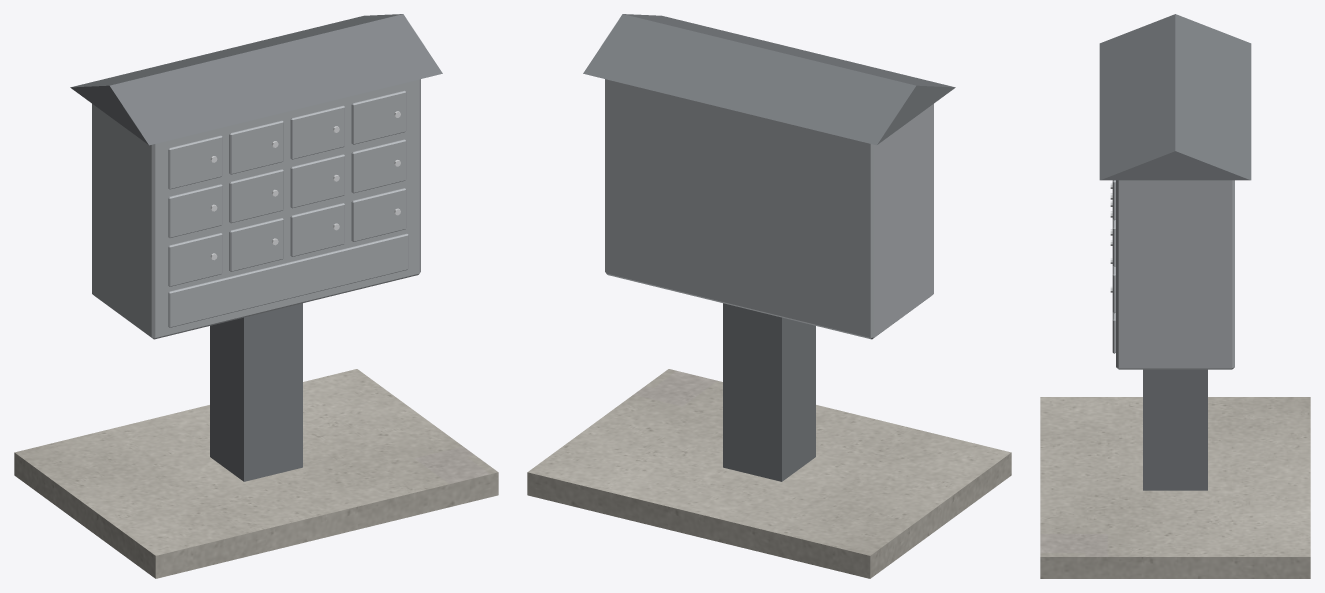
Rendered from mailboxes.glb.
3 views of the same model, side by side, from view 1: azimuth 30°, elevation 25°; view 2: azimuth 150°, elevation 25°; view 3: azimuth 270°, elevation 25° (orthographic). The views are drawn at different scales.
Parts seen in each view (by area): view 1: mailboxes_steel, mailboxes_concrete, mailboxes_steel_d; view 2: mailboxes_steel, mailboxes_concrete, mailboxes_steel_d; view 3: mailboxes_concrete, mailboxes_steel_d, mailboxes_steel.
Part boxes in pixels (x1=…): mailboxes_steel: x1=92, y1=79, x2=420, y2=339; mailboxes_concrete: x1=14, y1=369, x2=498, y2=578; mailboxes_steel_d: x1=70, y1=14, x2=442, y2=481; mailboxes_steel: x1=605, y1=79, x2=933, y2=339; mailboxes_concrete: x1=527, y1=369, x2=1011, y2=578; mailboxes_steel_d: x1=583, y1=14, x2=955, y2=481; mailboxes_concrete: x1=1040, y1=397, x2=1310, y2=578; mailboxes_steel_d: x1=1099, y1=14, x2=1251, y2=490; mailboxes_steel: x1=1112, y1=180, x2=1234, y2=369.
Bounding box in the file's own units: 1.4 × 1.7 × 1.
4 materials, 1 textured.
